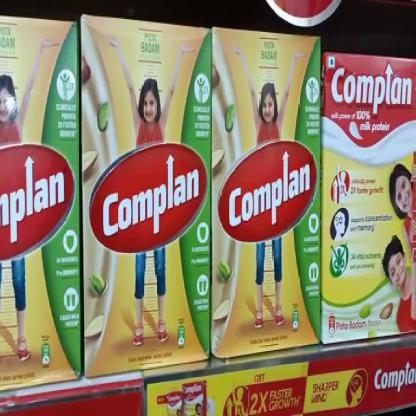Complan Pista Badam: (82, 18, 209, 377), (209, 30, 320, 356), (0, 19, 83, 382), (320, 56, 416, 346)
